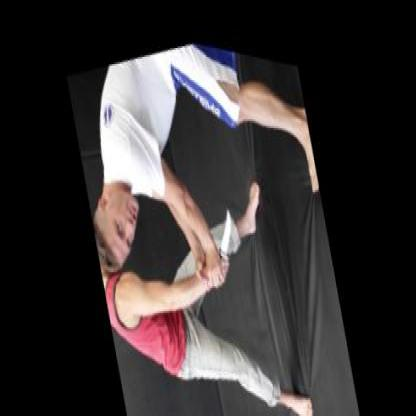knife: (206, 188, 242, 278)
